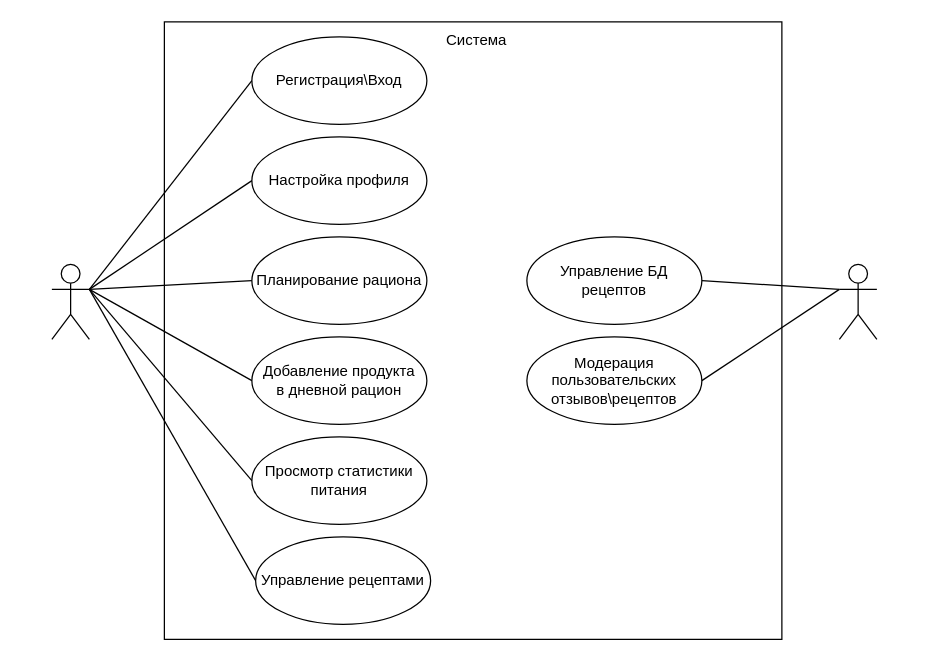
Image size: 934x661. Some labels were removed from this diagram. Here are the shapes that lost their labels. From the top down, the box of each, then its label:
(51, 263, 89, 339): Пользователь
(838, 263, 877, 339): Администратор
